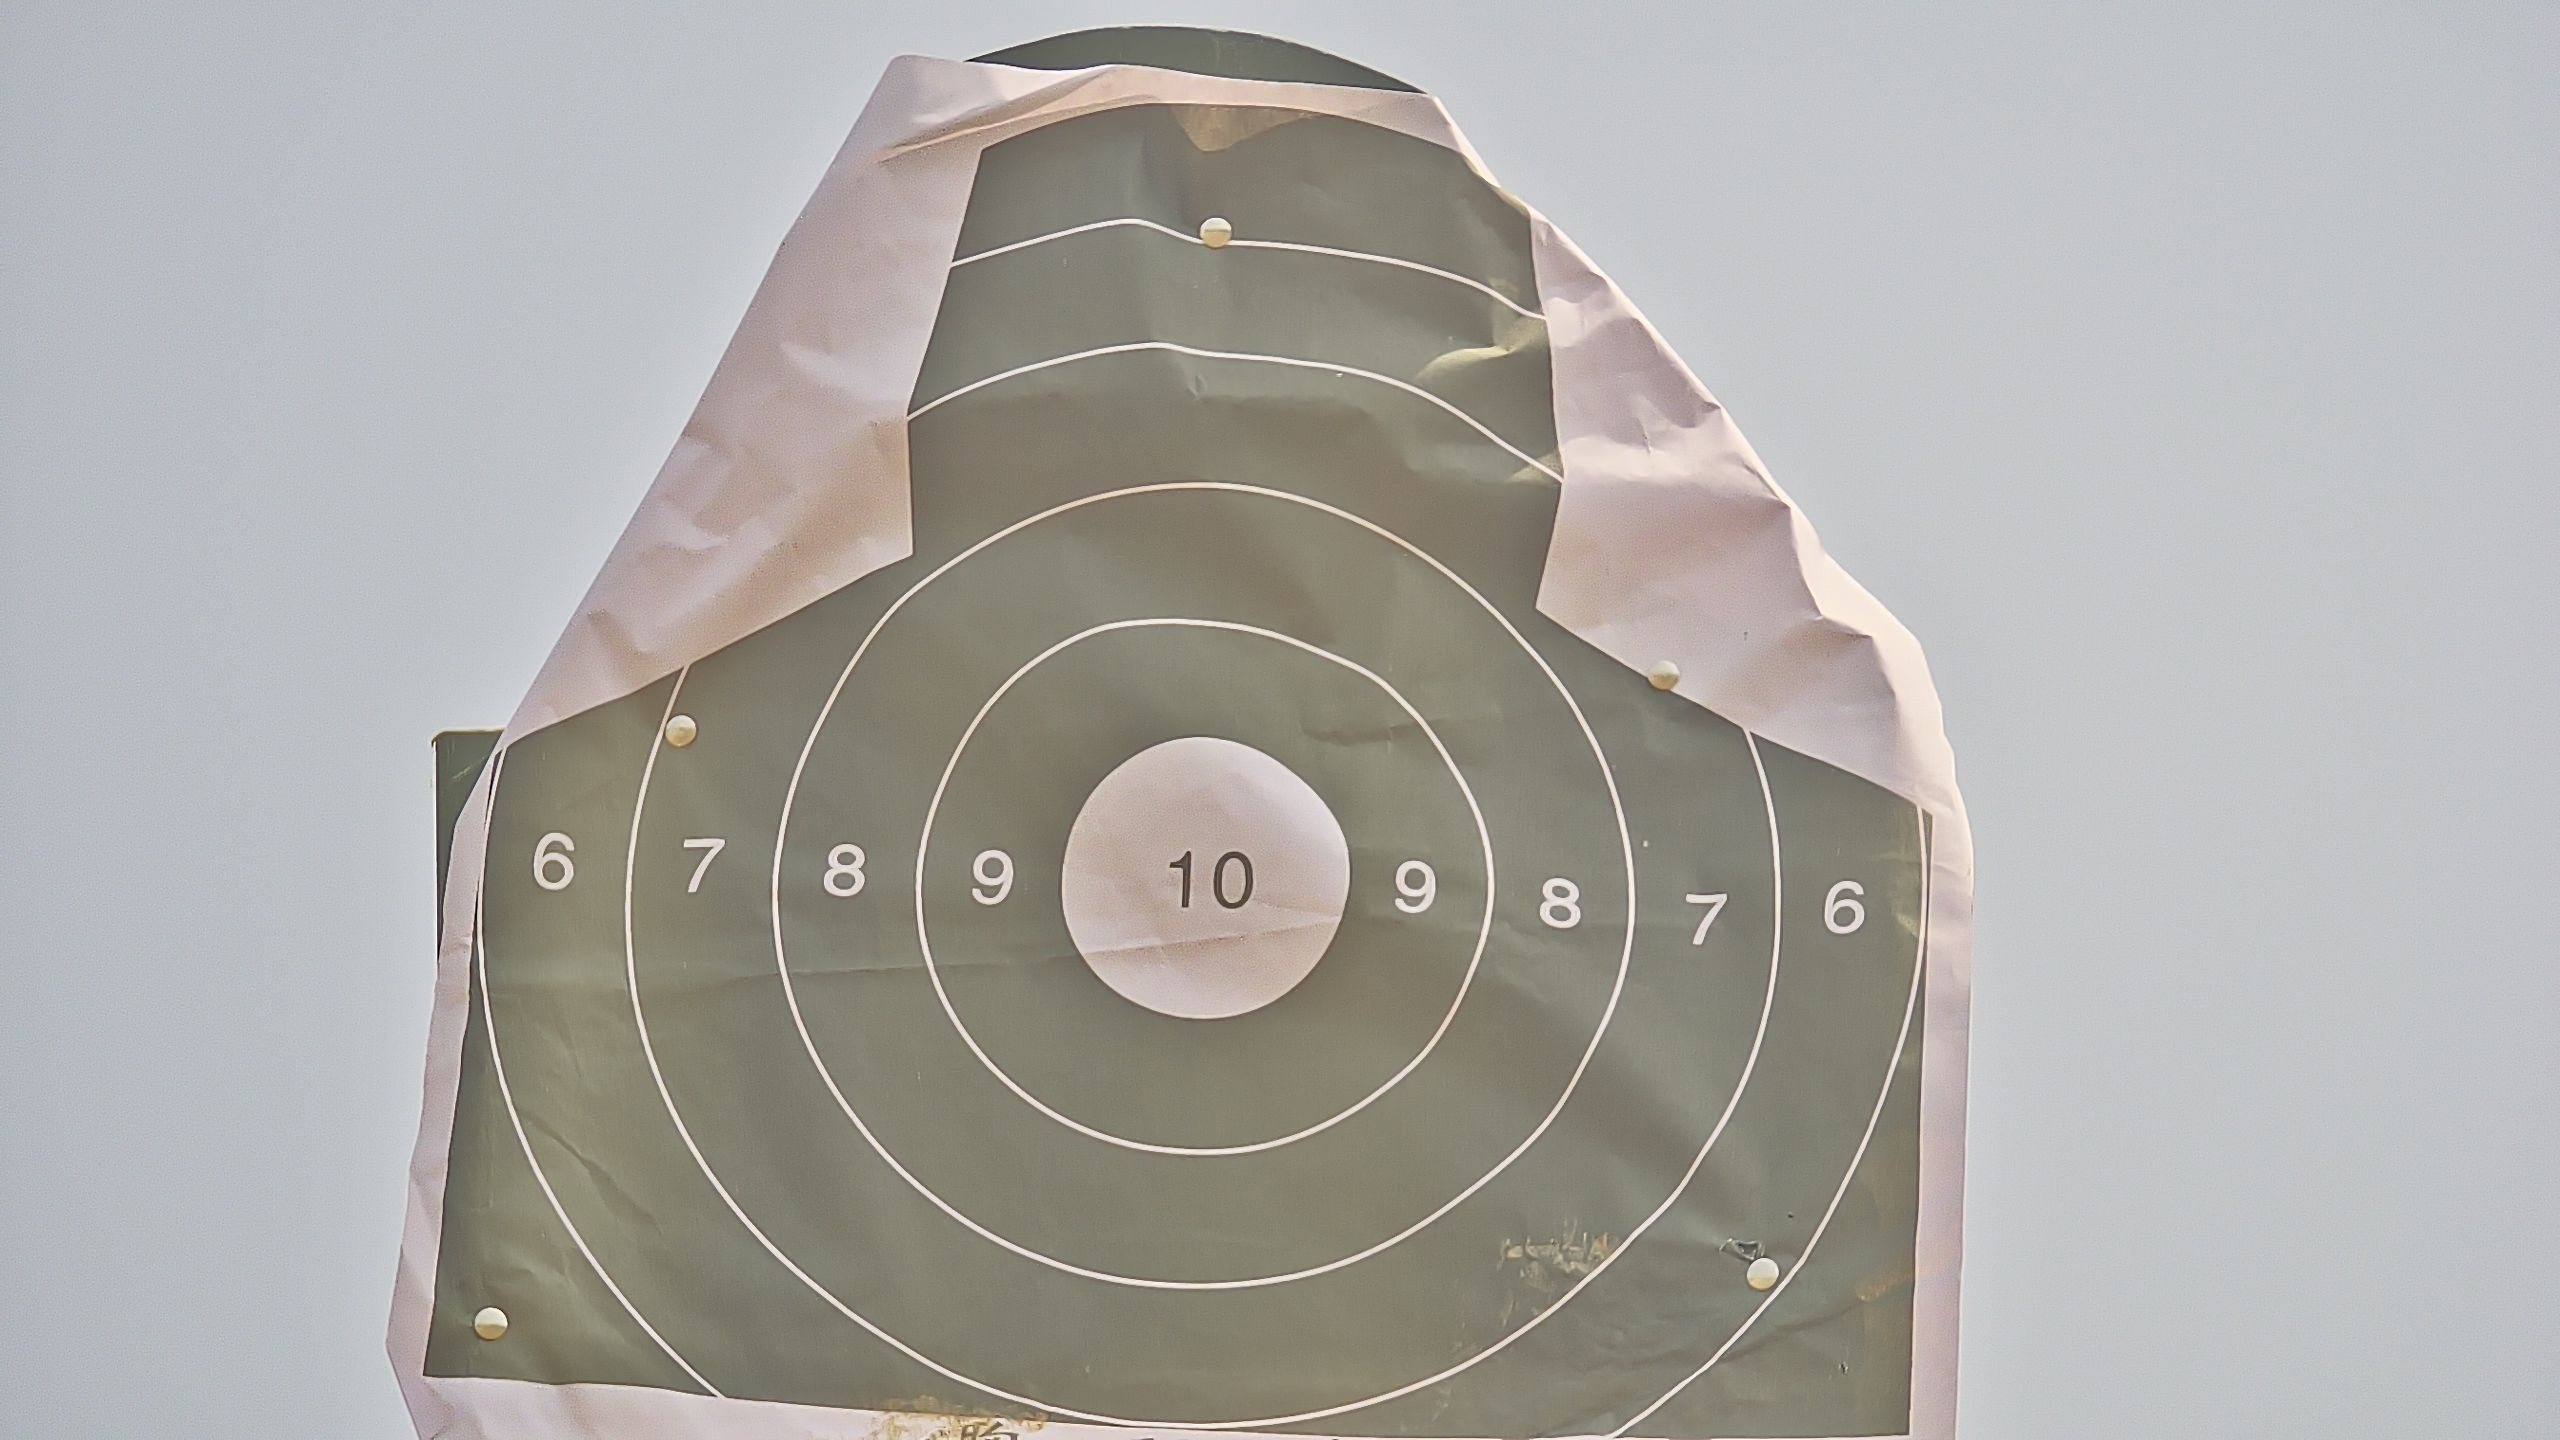kernel: (1203, 879, 1204, 884)
target: (422, 102, 1938, 1440)
ten: (1057, 730, 1356, 1020)
